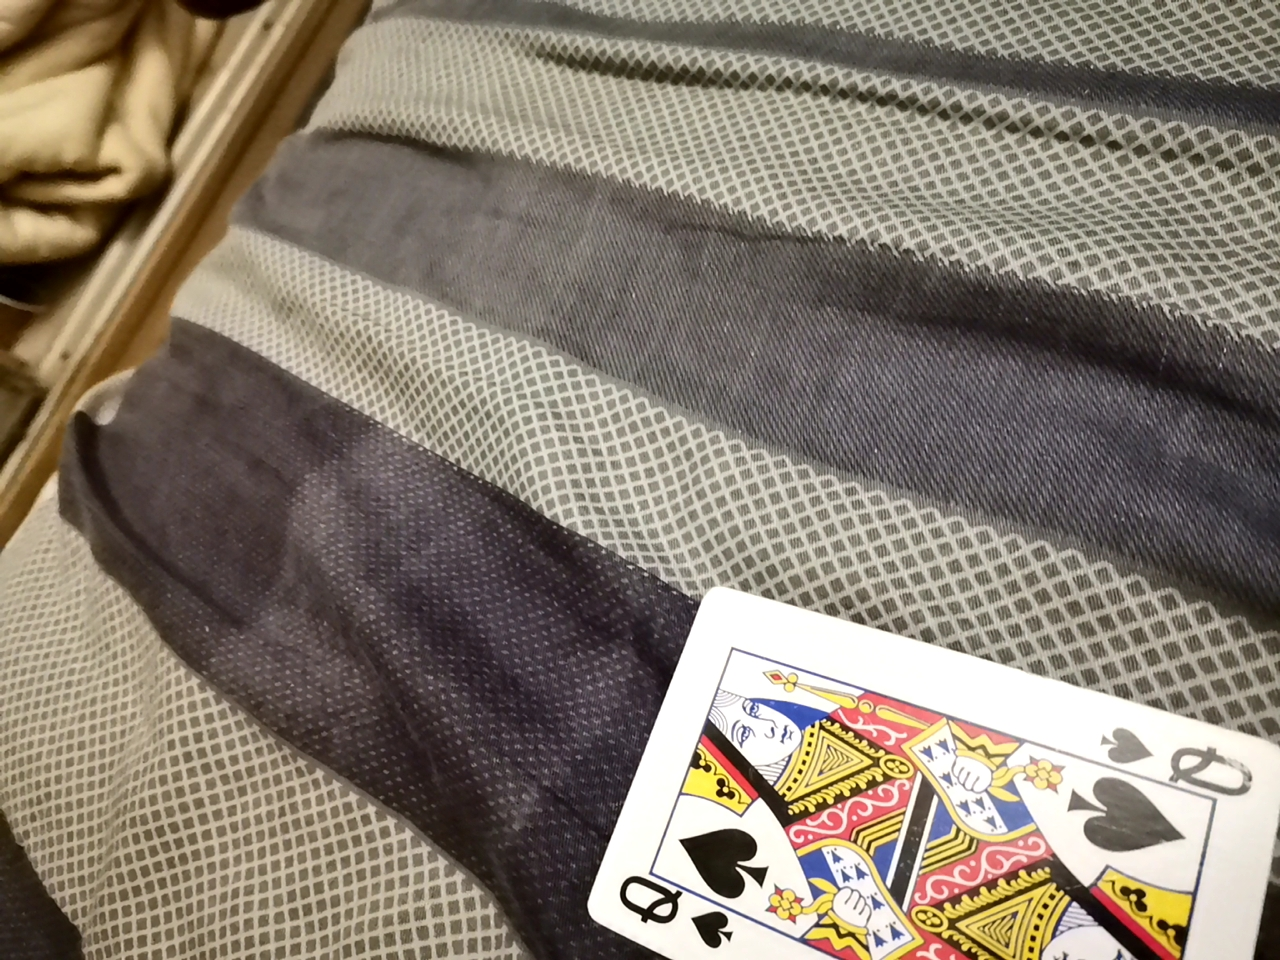ht q: (570, 587, 1274, 955)
